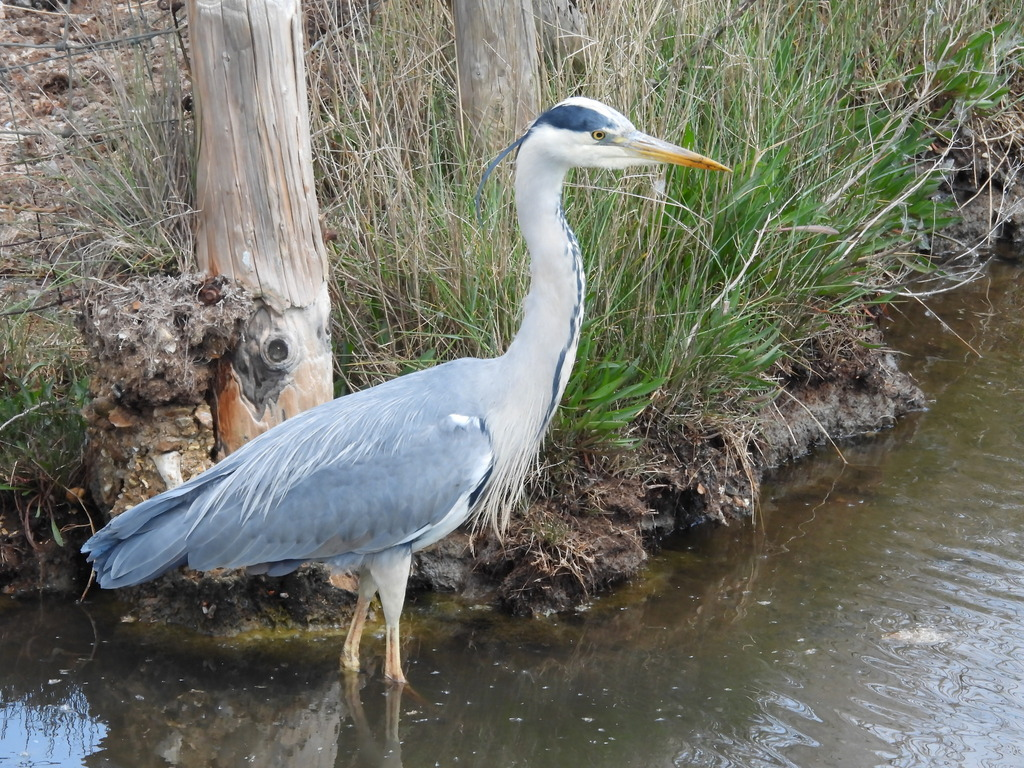heron: (79, 94, 736, 694)
